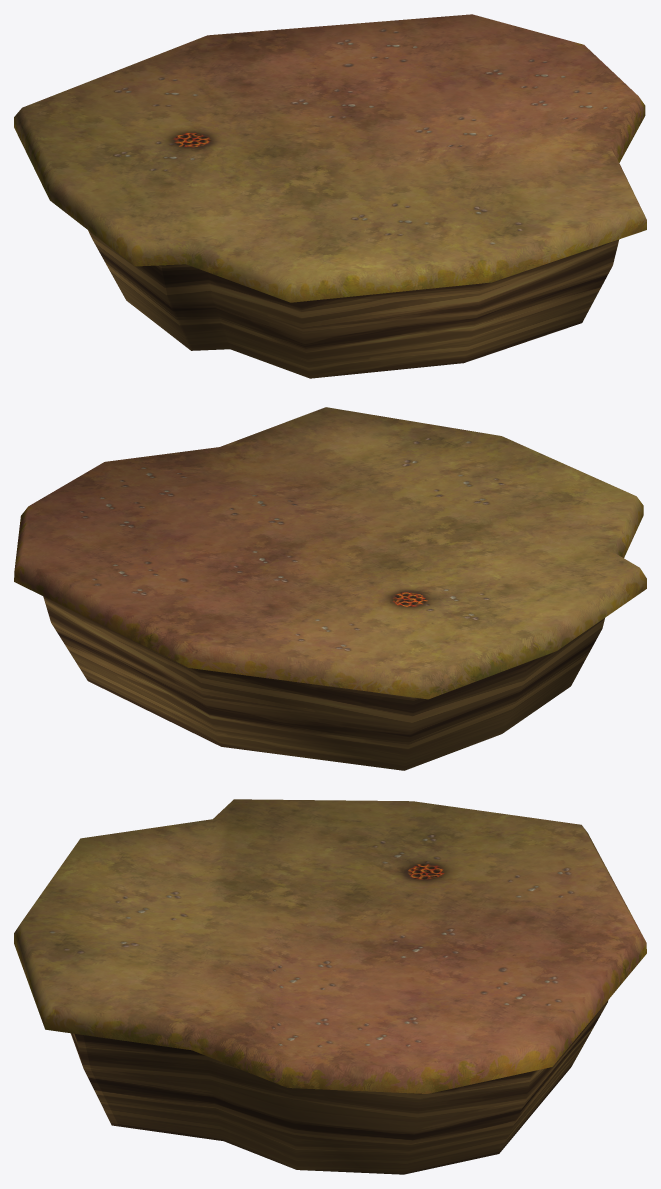
Rendered from island_ground_01.fbx.
The picture shows the model from 3 angles, top to bottom: view 1: azimuth 30°, elevation 25°; view 2: azimuth 150°, elevation 25°; view 3: azimuth 270°, elevation 25°; orthographic projection. The views are drawn at different scales.
Visible parts, largest first — view 1: island_ground_01; view 2: island_ground_01; view 3: island_ground_01.
Boxes of the visible parts, x1,y1,x2,y2 form: island_ground_01: (14, 14, 646, 378); island_ground_01: (14, 407, 646, 770); island_ground_01: (14, 799, 646, 1174).
Size of the model in its own units: 77.77 by 17.53 by 75.25.
